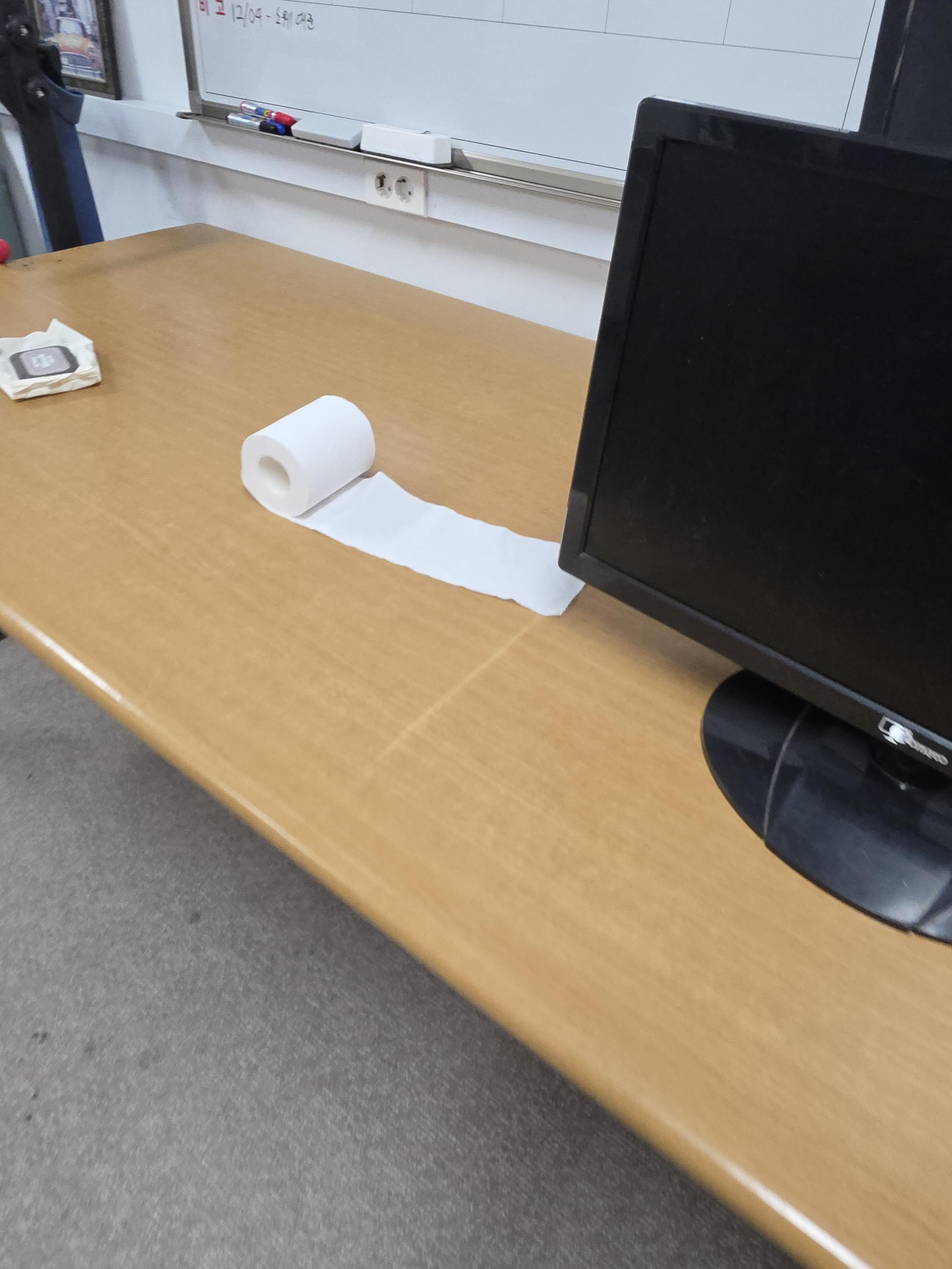tissue: (240, 394, 586, 617), (0, 318, 102, 400)
